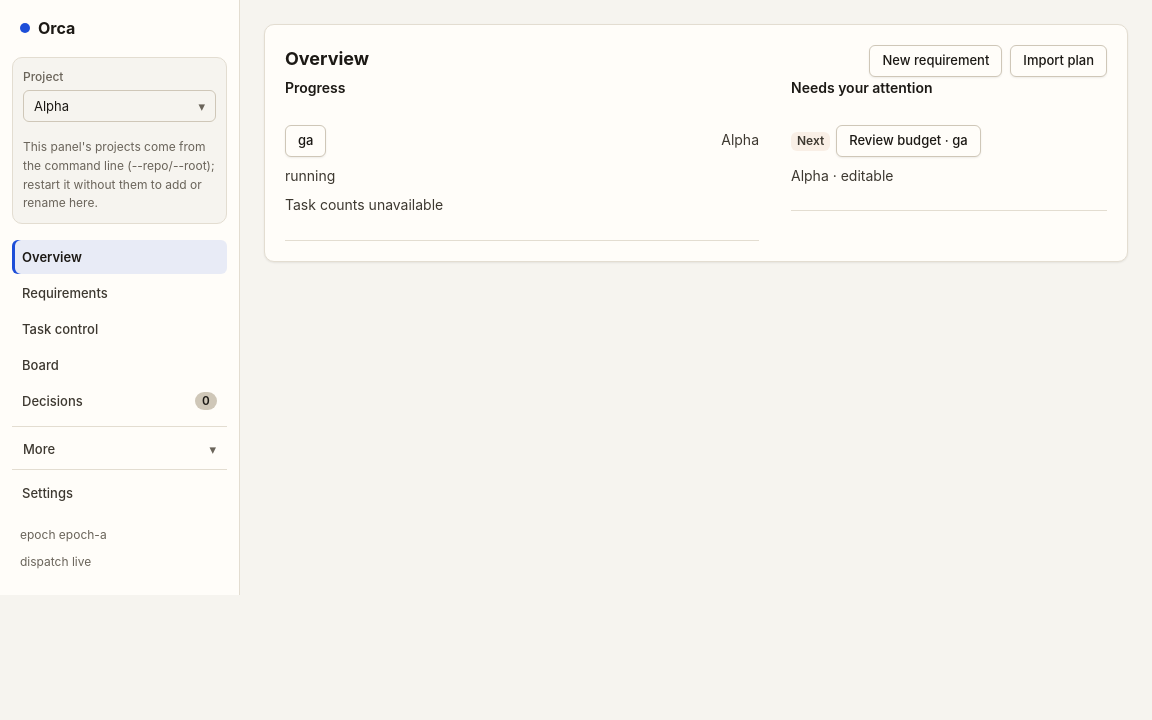
an owner read older than the live projection cannot reopen after progress refresh
Click the button "Review budget · ga".
click(908, 141)  # box x1=836 y1=125 x2=981 y2=157
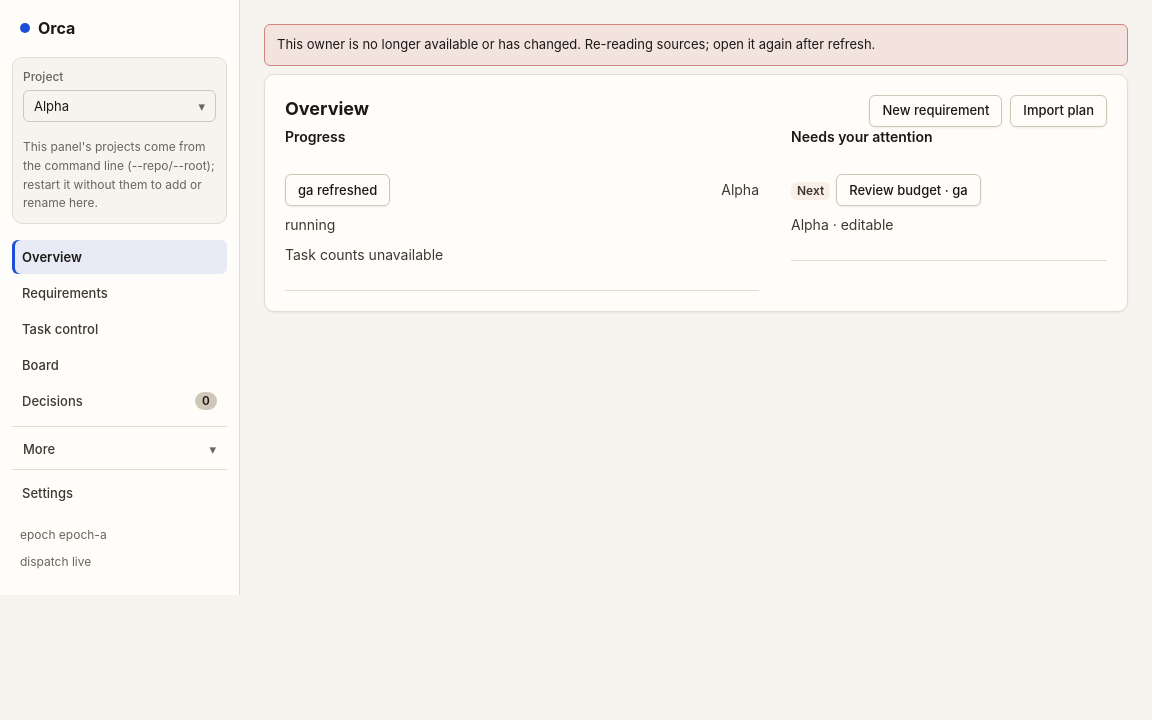
Now the button "ga refreshed" is shown, box x1=285 y1=174 x2=390 y2=206
